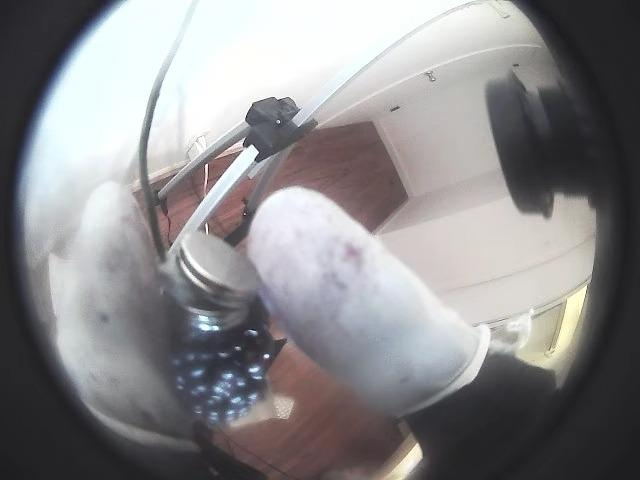berry: (171, 301, 273, 425)
gripper: (245, 186, 490, 415), (60, 181, 189, 441)
lense: (0, 0, 188, 479), (472, 0, 639, 479)
